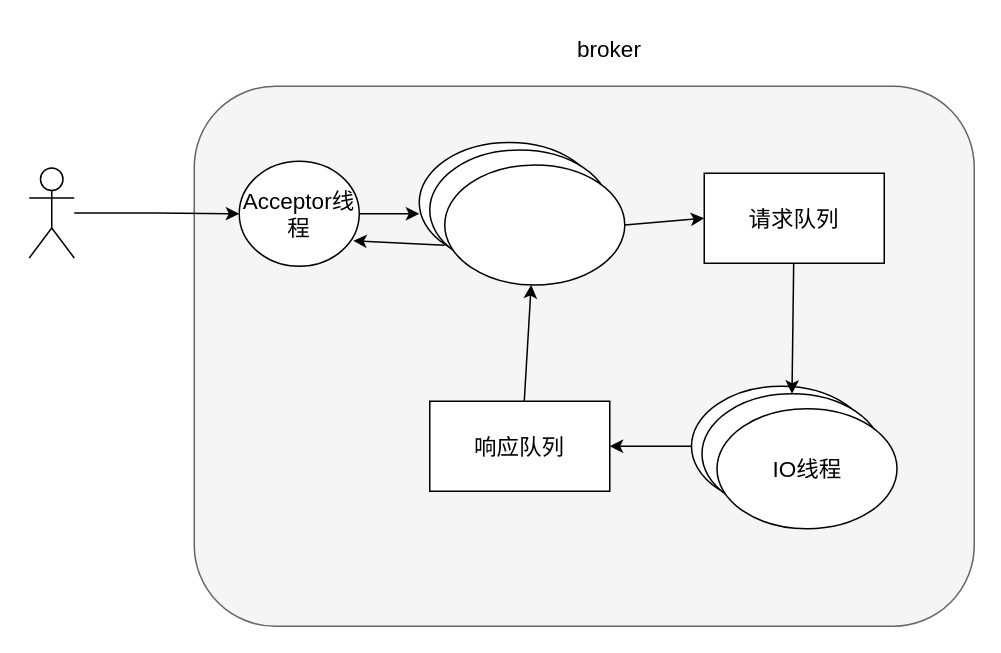
The diagram is 1001 pixels wide and 653 high, and some of its shapes have lost their labels. Each missing label, with the box of its shape:
client: (28, 166, 74, 258)
Processor线程 (网络线程): (443, 164, 625, 285)
